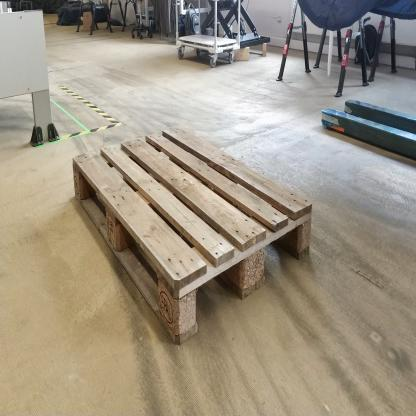BoxFace: (68, 117, 318, 353)
